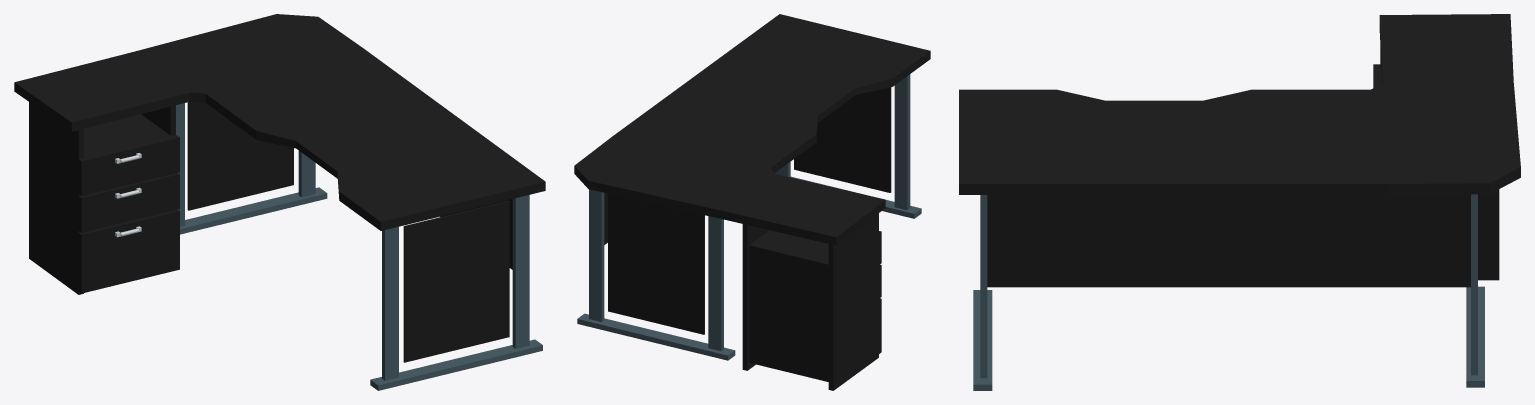
3 views of the same model, side by side, from view 1: azimuth 30°, elevation 25°; view 2: azimuth 150°, elevation 25°; view 3: azimuth 270°, elevation 25° (orthographic). The views are drawn at different scales.
Visible parts, largest first — view 1: mesh_2123122164, mesh_1534087578, group_122835016, mesh_2004549417, mesh_903319112, mesh_1886652203, mesh_1204164771, mesh_18327390, mesh_1430384365, mesh_1882489091, mesh_60323326, mesh_1615802795; view 2: mesh_2123122164, group_122835016, mesh_590239939, mesh_2004549417, mesh_1534087578, mesh_1430384365, mesh_1615802795, mesh_60323326, mesh_1882489091; view 3: mesh_2123122164, mesh_1859014562, group_122835016, mesh_1615802795, mesh_1882489091, mesh_18327390.
Boxes of the visible parts, x1,y1,x2,y2 form: mesh_2123122164: [14, 14, 545, 230]; mesh_1534087578: [403, 200, 509, 362]; group_122835016: [176, 101, 327, 234]; mesh_2004549417: [29, 102, 83, 294]; mesh_903319112: [78, 209, 179, 293]; mesh_1886652203: [78, 135, 179, 195]; mesh_1204164771: [78, 173, 179, 232]; mesh_18327390: [512, 195, 529, 348]; mesh_1430384365: [382, 226, 398, 380]; mesh_1882489091: [370, 339, 542, 390]; mesh_60323326: [84, 114, 172, 157]; mesh_1615802795: [141, 105, 175, 135]; mesh_2123122164: [574, 14, 930, 245]; group_122835016: [577, 189, 735, 360]; mesh_590239939: [749, 243, 828, 381]; mesh_2004549417: [828, 213, 878, 390]; mesh_1534087578: [794, 87, 891, 192]; mesh_1430384365: [894, 74, 910, 210]; mesh_1615802795: [742, 224, 769, 370]; mesh_60323326: [752, 230, 828, 261]; mesh_1882489091: [791, 176, 921, 218]; mesh_2123122164: [959, 14, 1520, 194]; mesh_1859014562: [987, 194, 1470, 287]; group_122835016: [1466, 194, 1484, 387]; mesh_1615802795: [1478, 189, 1499, 280]; mesh_1882489091: [973, 290, 992, 390]; mesh_18327390: [980, 195, 987, 378].
Size of the model in its own units: 171 by 94.99 by 236.
